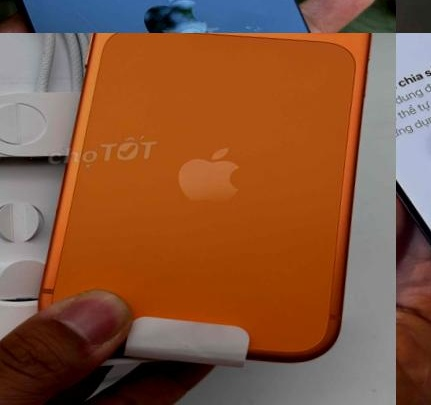scratch: (244, 20, 265, 33)
